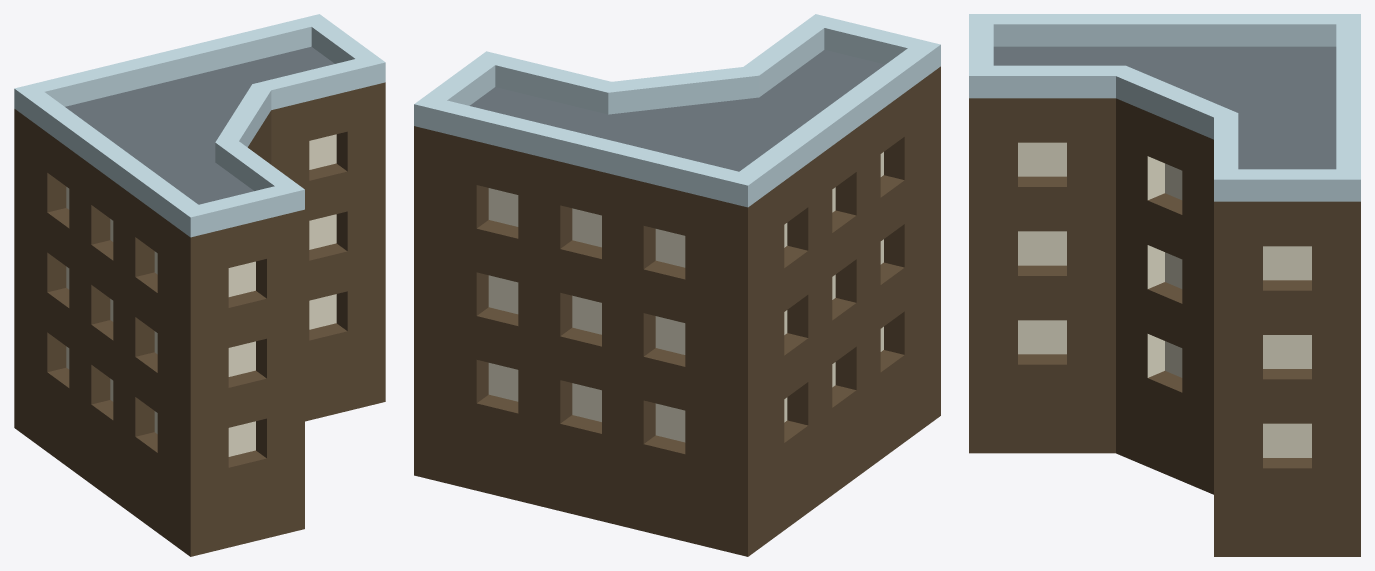
Rendered from Building_8 (Brown).obj.
The picture shows the model from 3 angles, left to right: view 1: azimuth 30°, elevation 25°; view 2: azimuth 150°, elevation 25°; view 3: azimuth 270°, elevation 25°; orthographic projection. The views are drawn at different scales.
Visible parts, largest first — view 1: Building_8_(Brown); view 2: Building_8_(Brown); view 3: Building_8_(Brown).
Part boxes in pixels (box(x1,y1,x2,y2)): Building_8_(Brown): box(14, 14, 385, 556); Building_8_(Brown): box(414, 14, 940, 556); Building_8_(Brown): box(969, 14, 1360, 556).
Bounding box in the file's own units: 1.6 × 1.7 × 1.6.
